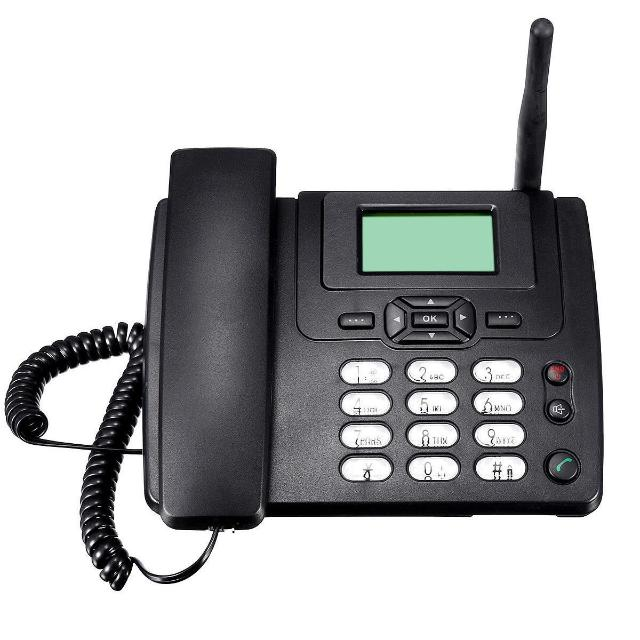Telephone-Set: (108, 0, 640, 534)
